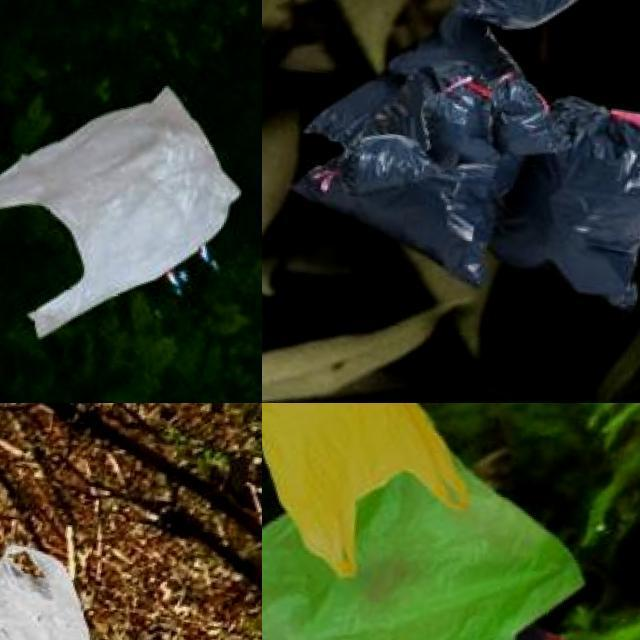waste: (262, 420, 593, 640), (0, 66, 255, 349), (262, 403, 505, 580), (308, 61, 516, 266), (500, 86, 640, 309), (0, 527, 117, 640), (454, 0, 603, 35)
